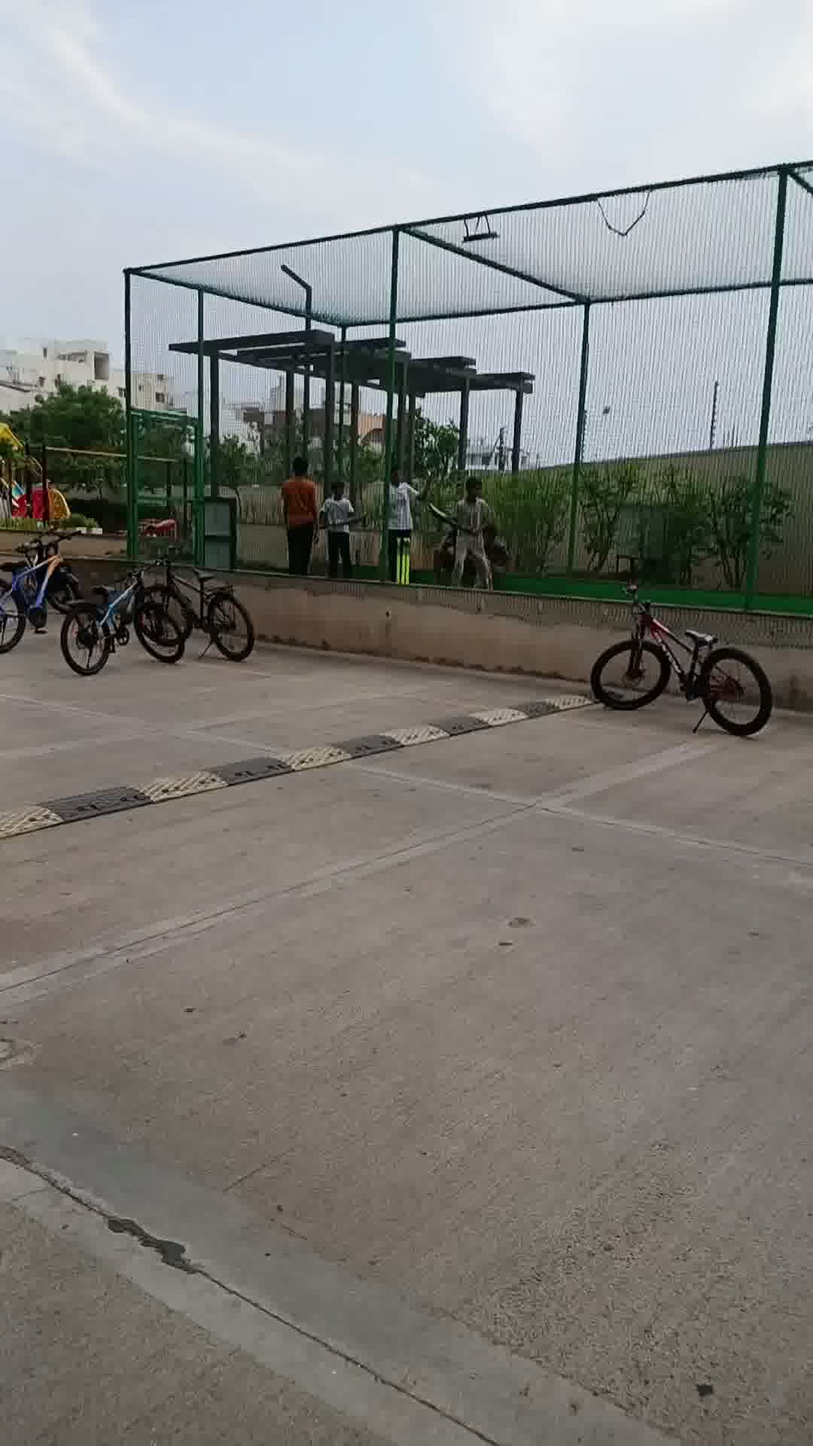bicycle: (580, 564, 792, 744), (50, 578, 209, 687), (145, 537, 252, 676), (0, 522, 83, 659)
person: (377, 454, 428, 595), (440, 466, 494, 592), (276, 442, 319, 584), (316, 457, 357, 580)
